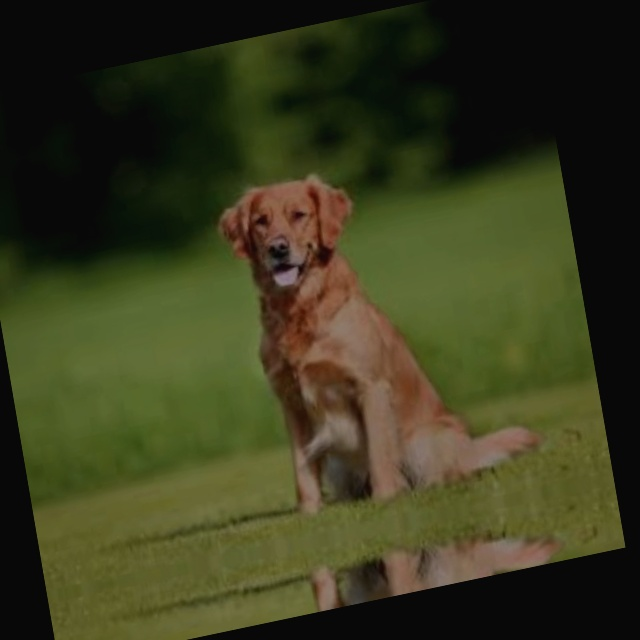dog: (209, 126, 548, 534), (274, 507, 563, 620), (186, 0, 467, 56)
